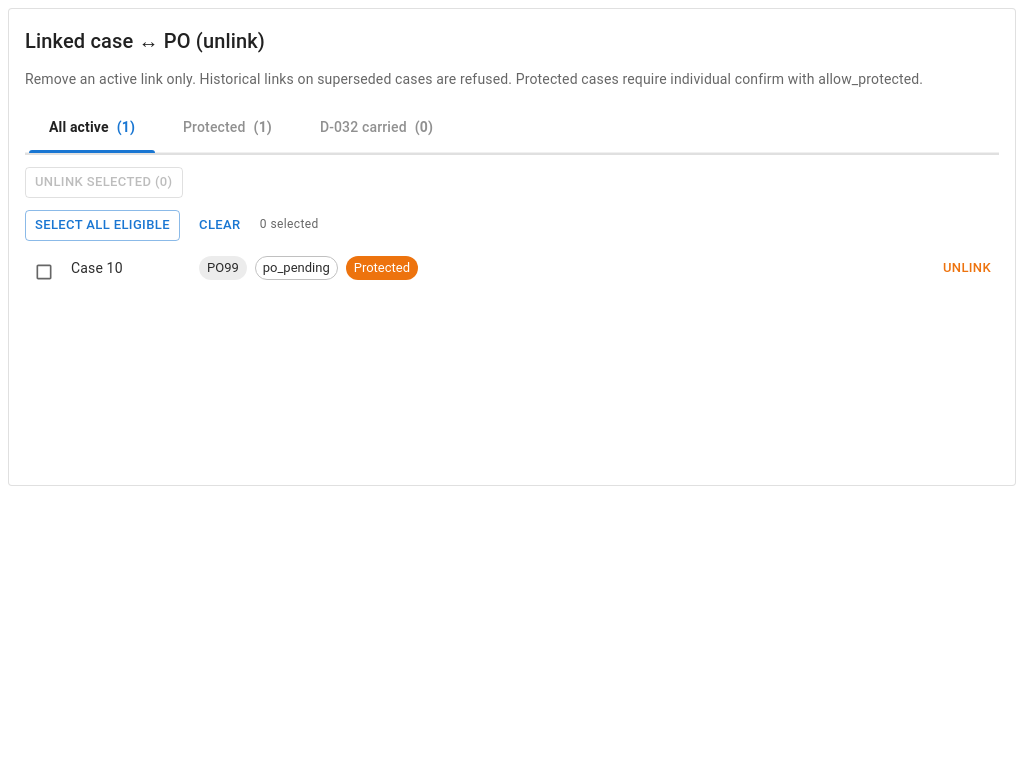
Test: PoCaseLinkWorklistSection › posts unlink with reason and allow_protected for protected case
The width and height of the screenshot is (1024, 768).
Click the button with test id "po-case-link-unlink-10:5".
click(967, 268)  # box [935,252,999,283]
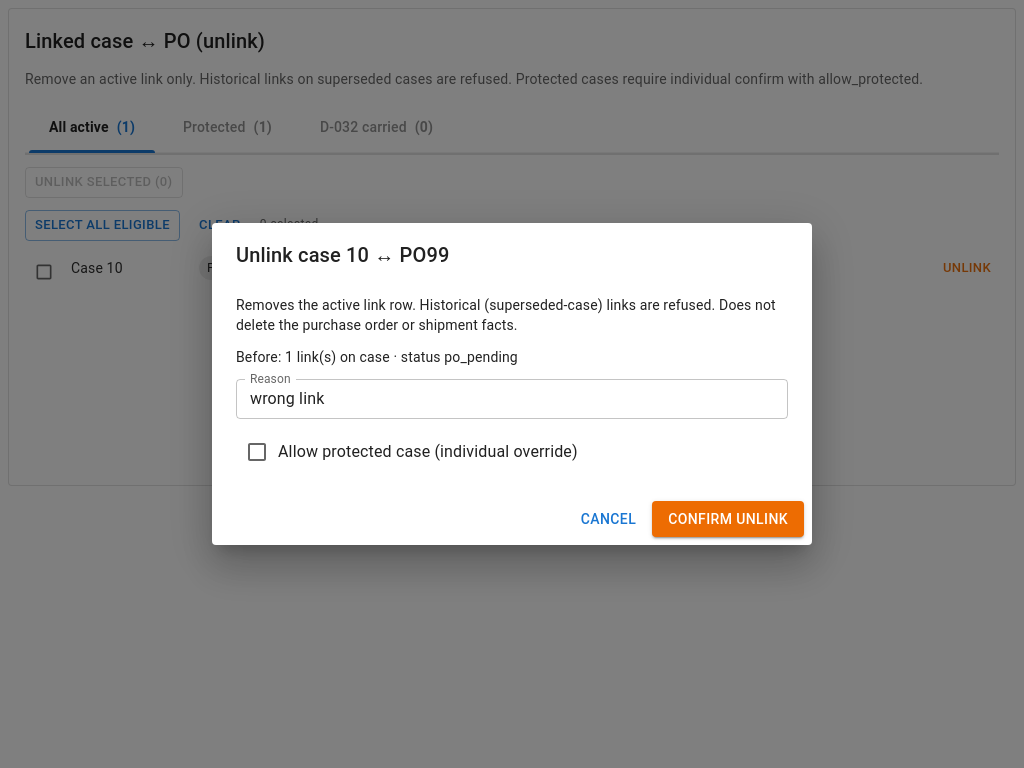
Check: the element with test id "po-case-link-unlink-dialog" is shown
Click the checkbox with test id "po-case-link-allow-protected".
click(411, 452)  # box [245,440,578,464]
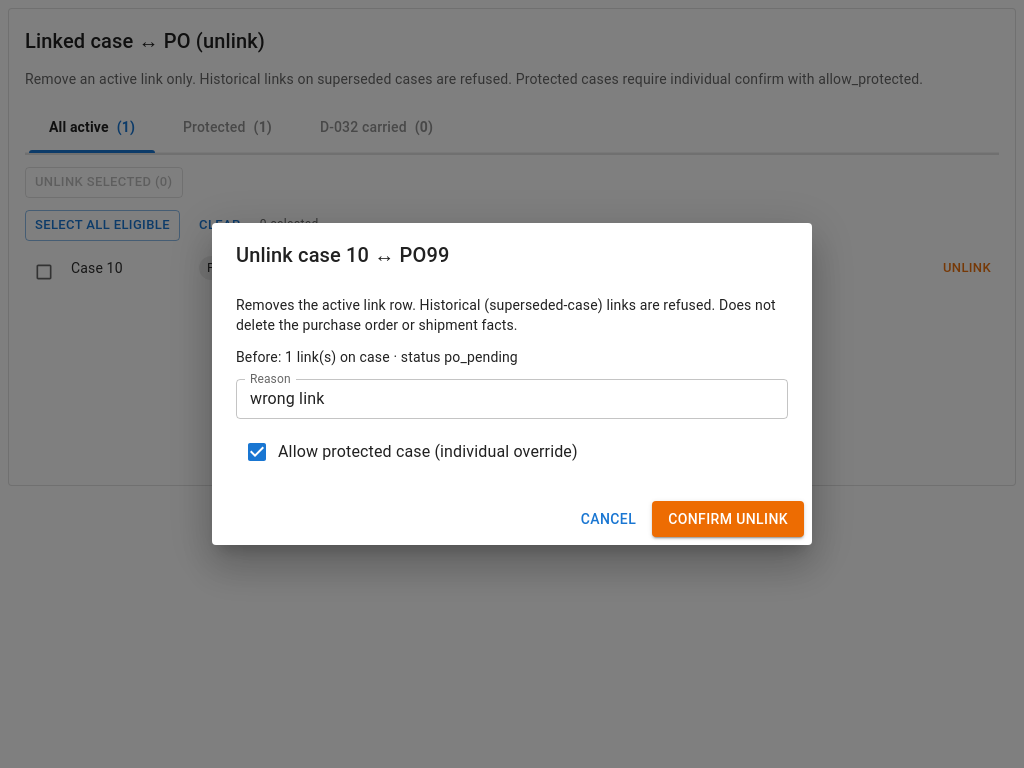
Click the button with test id "po-case-link-unlink-submit".
click(728, 519)  # box [652,501,804,537]
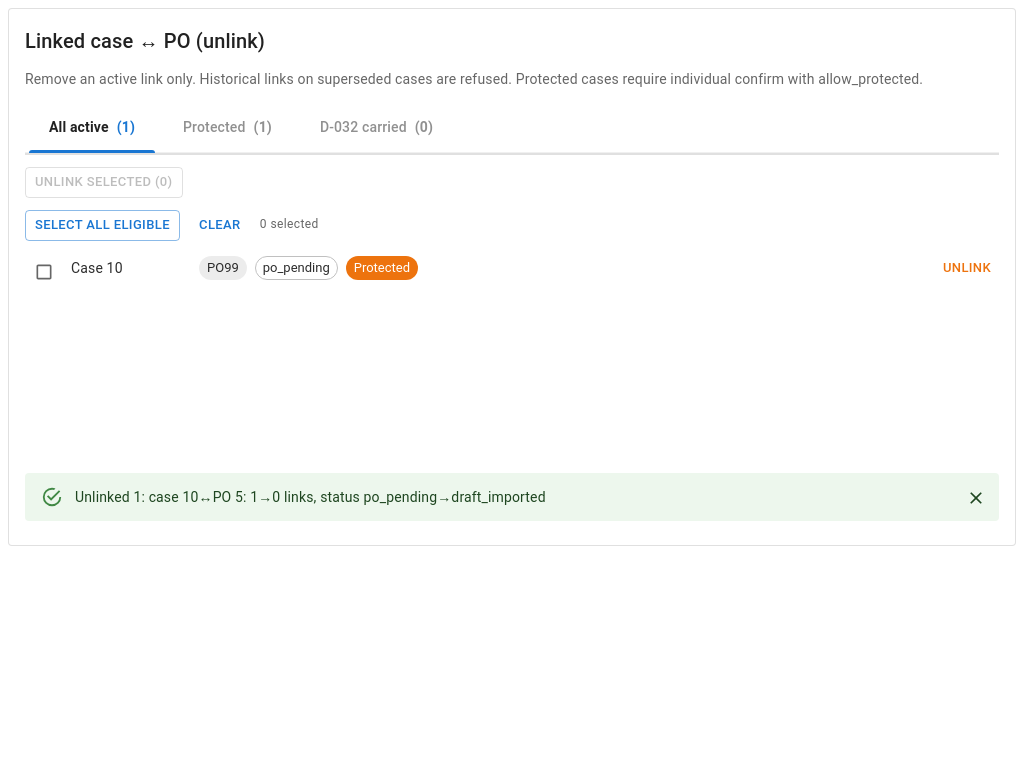
Check: the message "Unlinked 1: case 10↔PO 5: 1→0 links, status po_pending→draft_imported" is shown, box [25,473,999,521]
